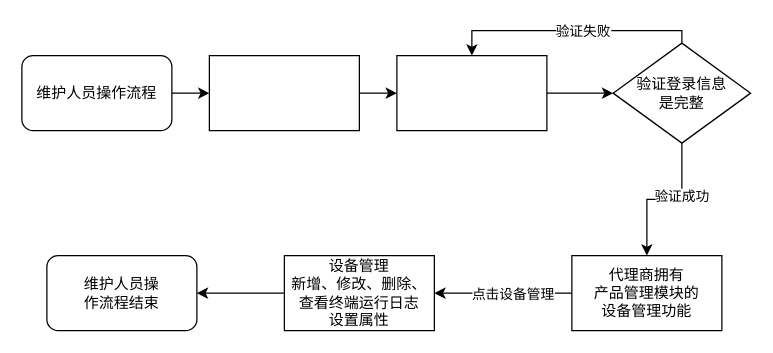
Some shapes in this 773 by 353 pixel diagram are drawn without their labels. Here are the shapes that lost their labels. From the top down, the centre of each, then its label:
point 283,92: 登录管理员账号 （可以切换语言）
point 471,92: 输入账号密码 及验证码
